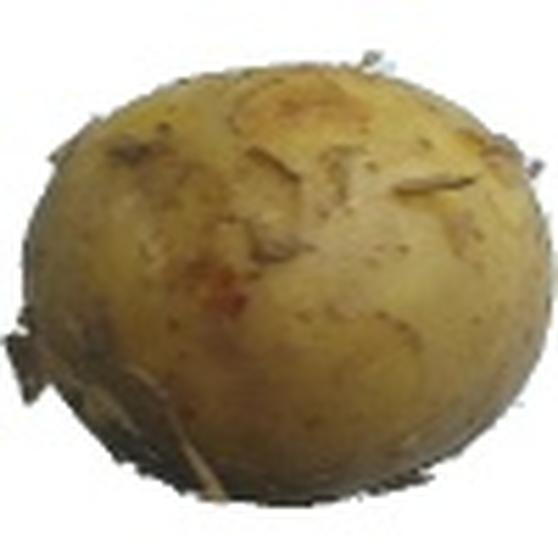potato: (14, 64, 554, 514)
